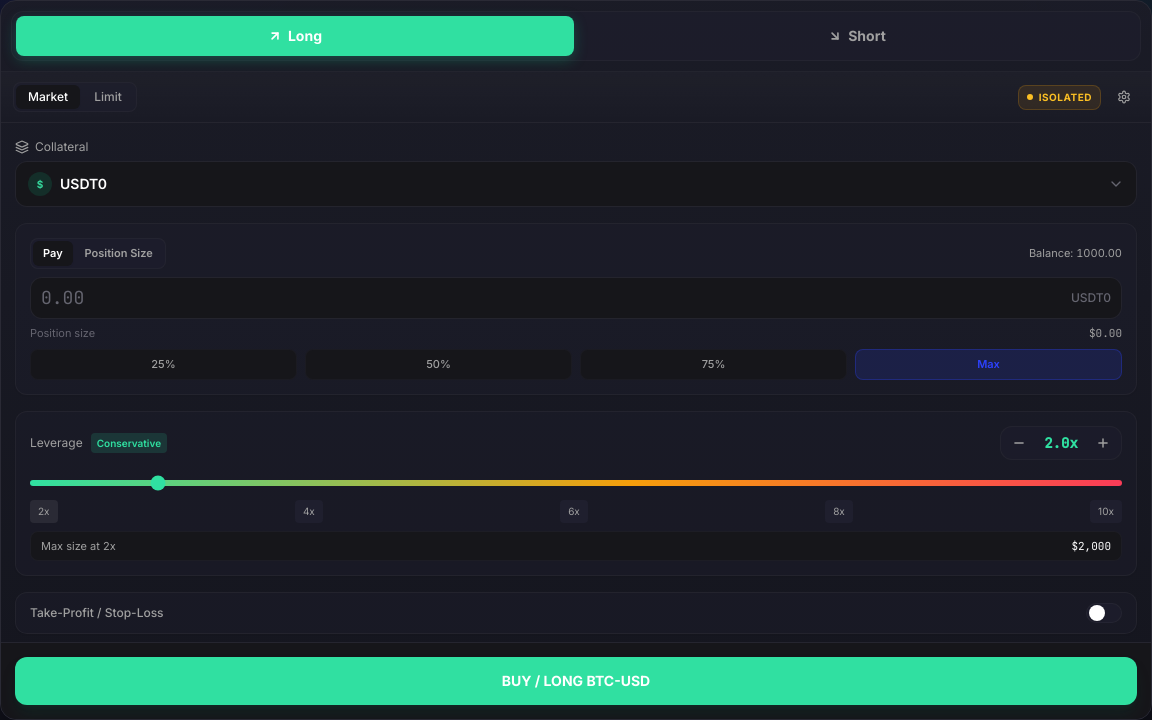
Test: TradingForm order entry › validates a stop-loss above entry for a long
Step 1. Type "100" into the number field with test id "margin-input" → {"x": 552, "y": 298}, box top-left (41, 284), bottom-right (1063, 312)
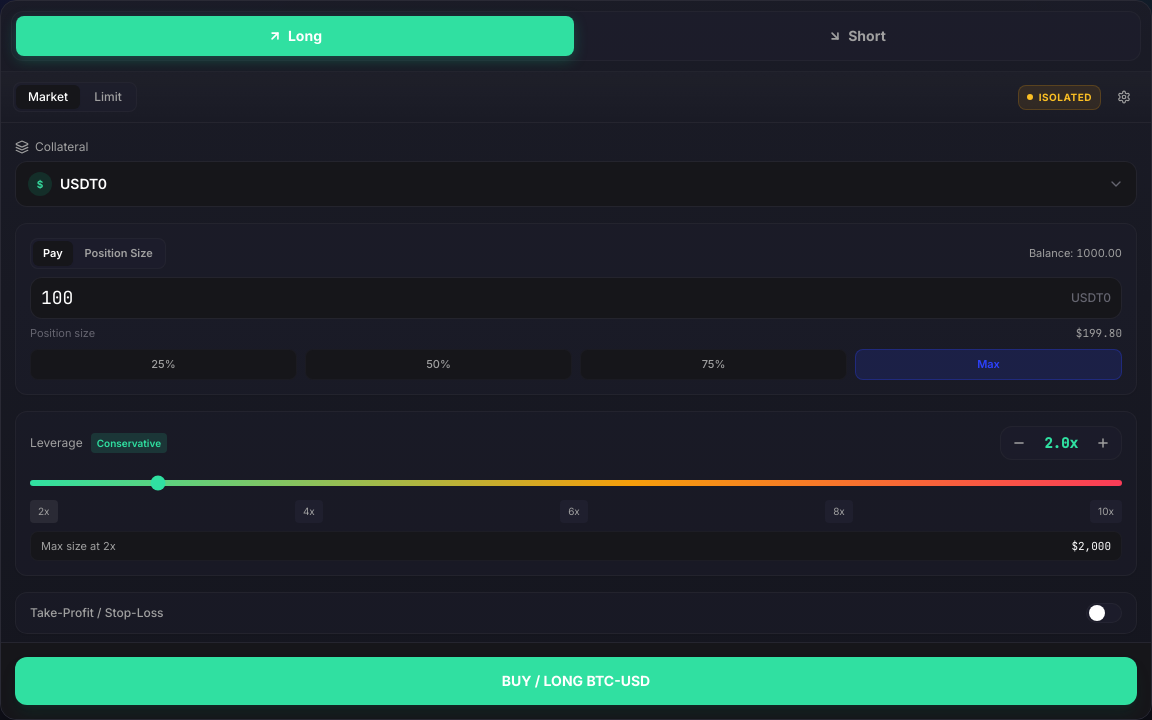
Step 2. Click the switch with test id "bracket-toggle" → {"x": 1104, "y": 613}, box top-left (1086, 603), bottom-right (1122, 623)
(page scrolled)
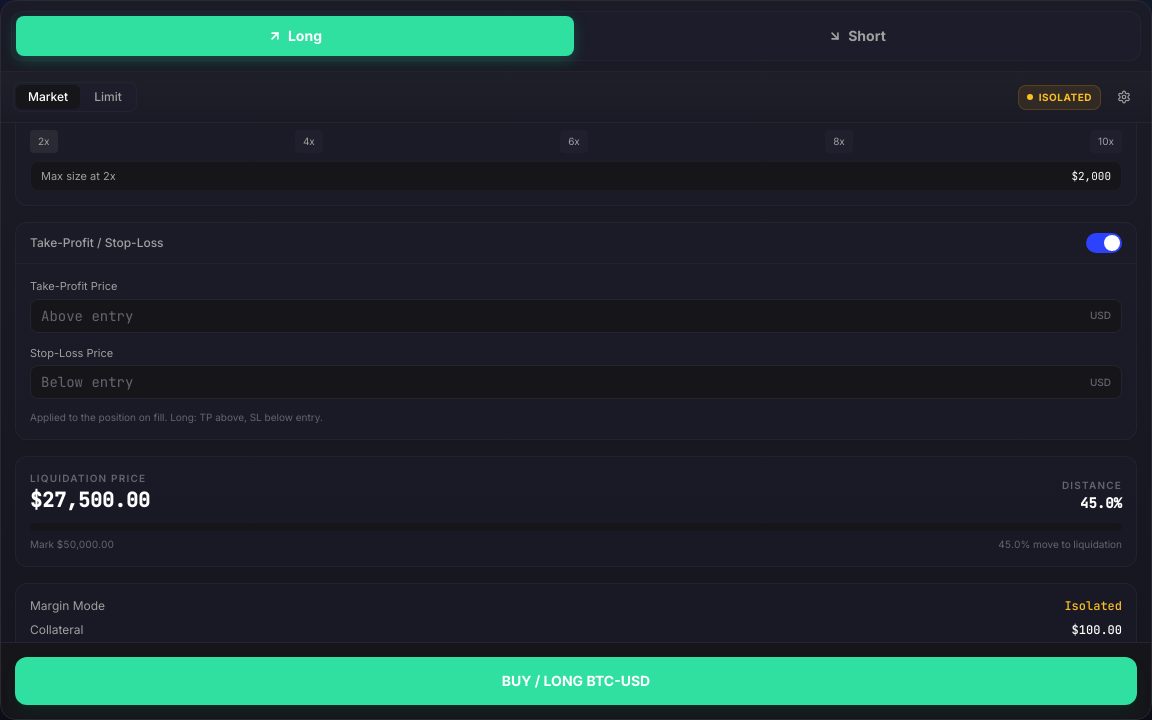
Step 3. Type "60000" into the number field with test id "stop-loss-price" → {"x": 561, "y": 382}, box top-left (41, 372), bottom-right (1082, 392)
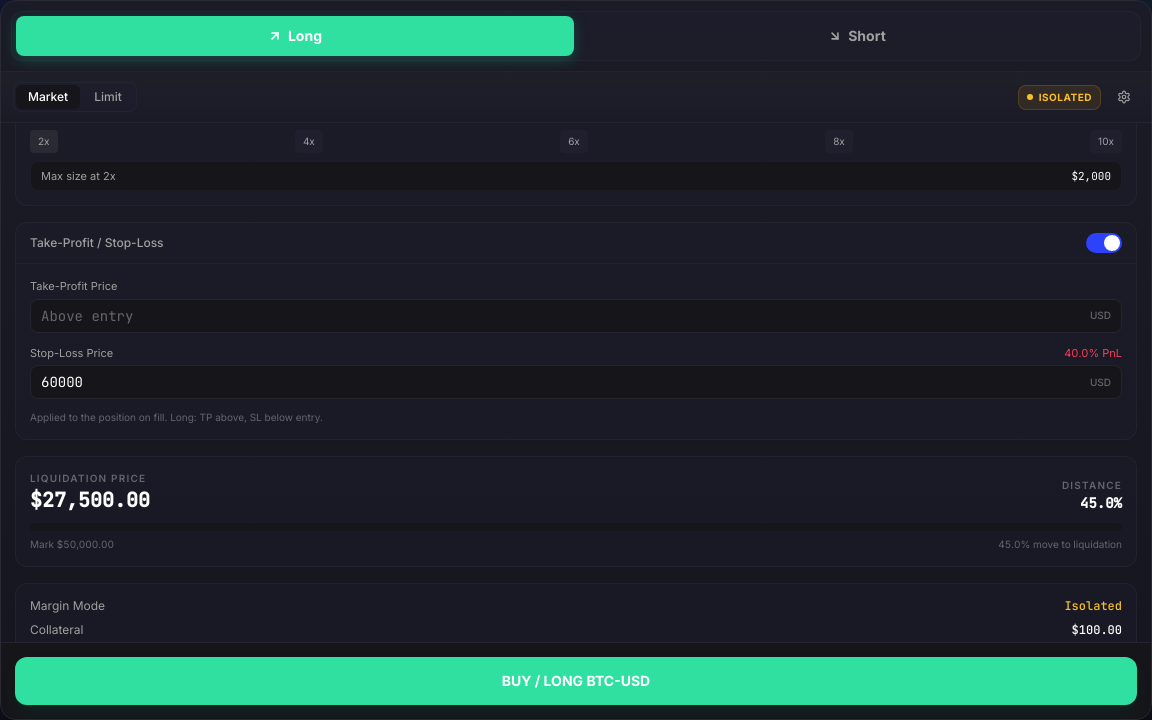
Step 4. Click the button with test id "trade-button" → {"x": 576, "y": 681}, box top-left (15, 657), bottom-right (1137, 705)
(page scrolled)
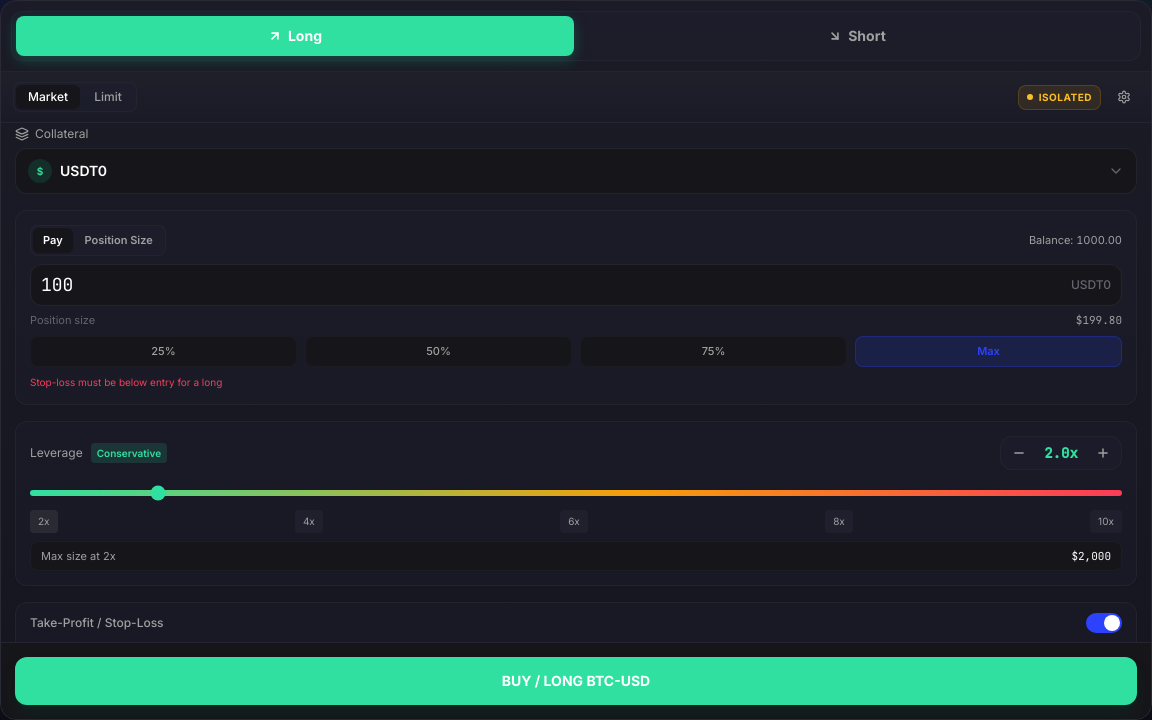
Expected: the text "Stop-loss must be below entry for a long" is shown, top-left (30, 376), bottom-right (222, 388)
